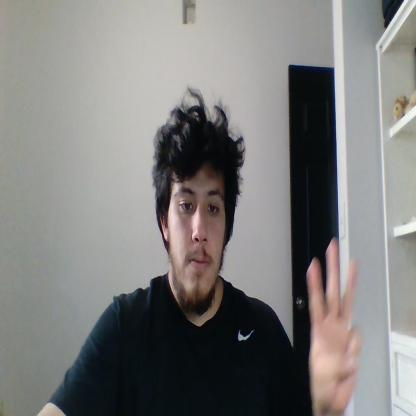W: (307, 237, 360, 415)
